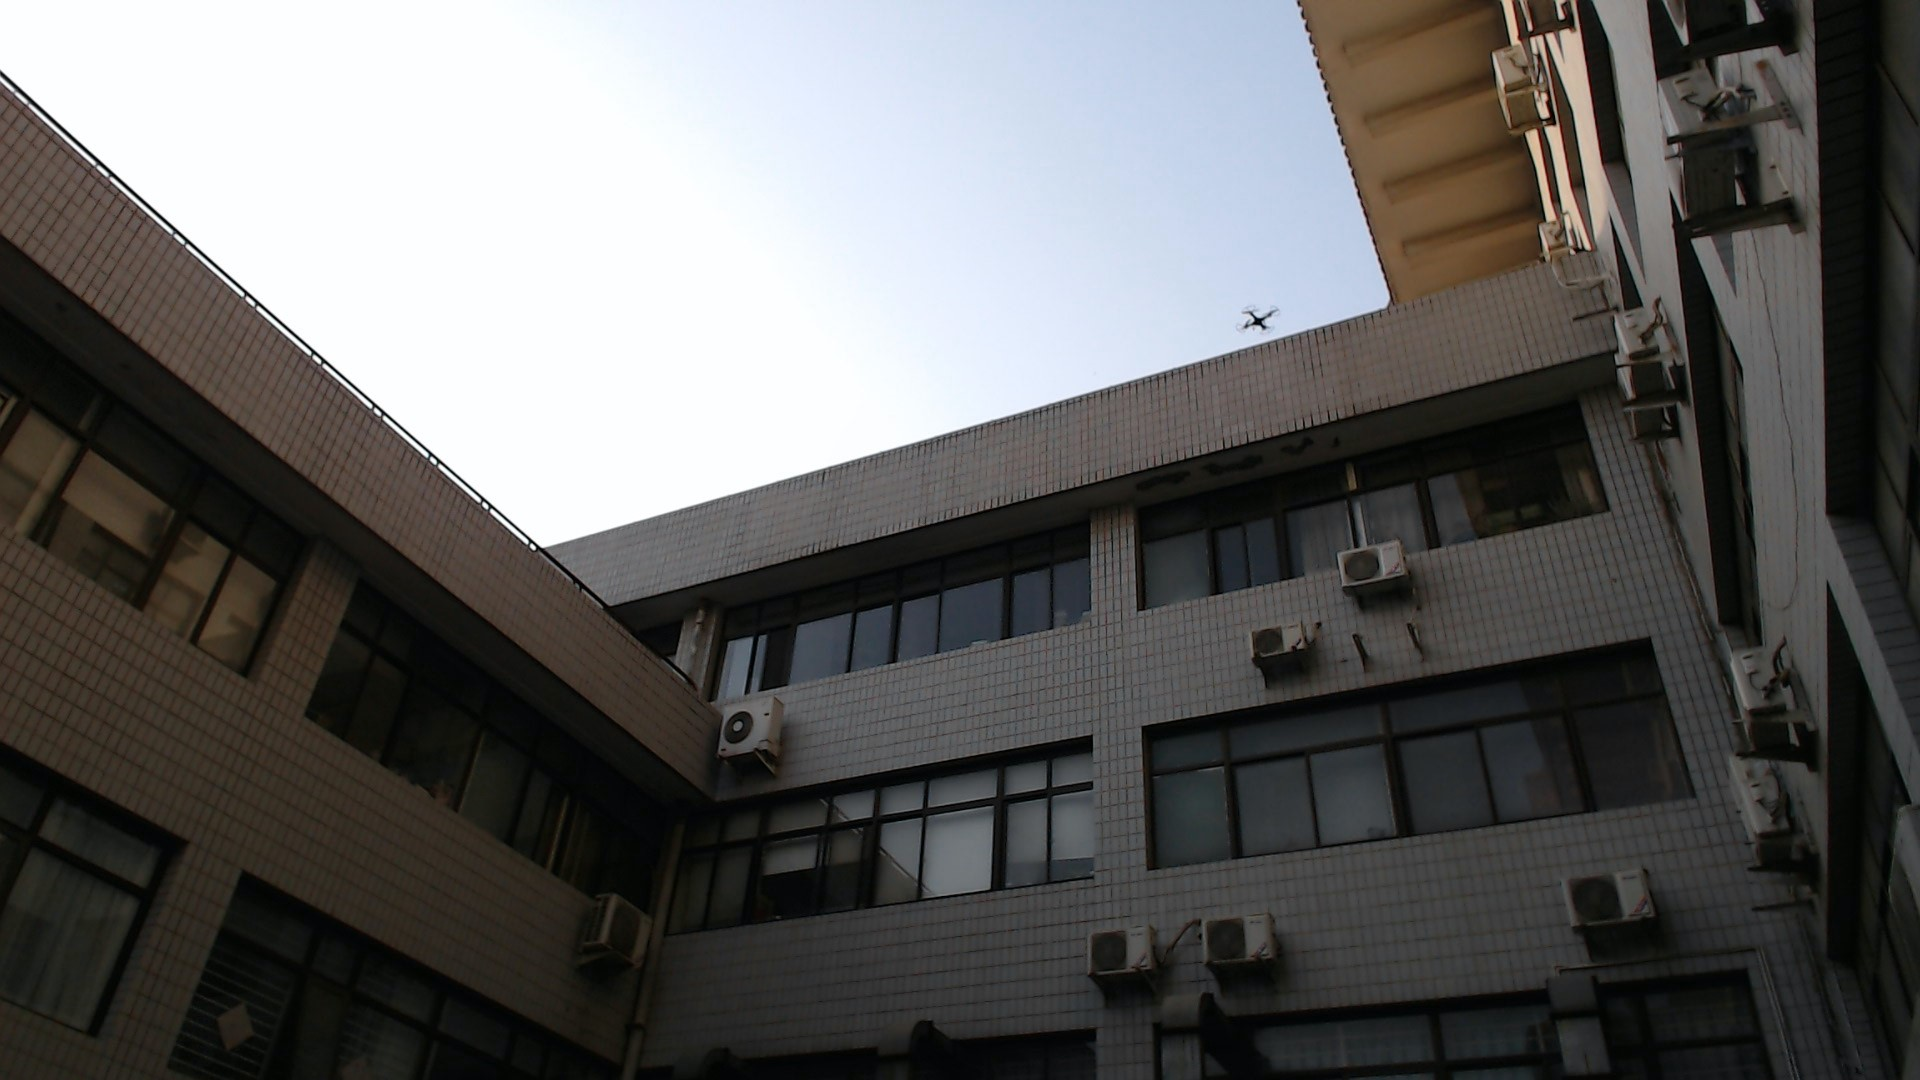drone: (1221, 289, 1295, 351)
